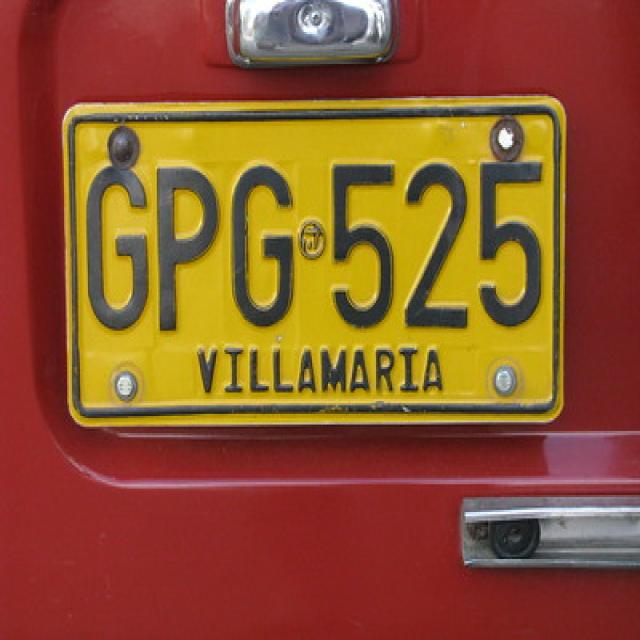placa_carro: (43, 83, 589, 457)
